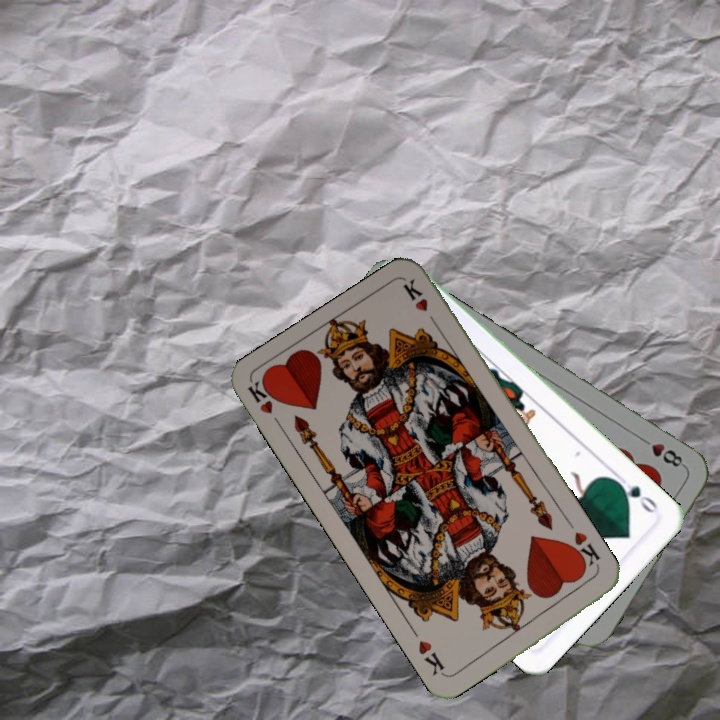GO: (611, 476, 661, 517)
H8: (635, 433, 688, 470)
HK: (243, 375, 287, 433), (564, 527, 603, 574)
